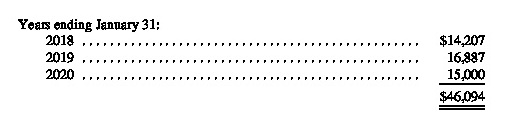table: (0, 0, 517, 133)
